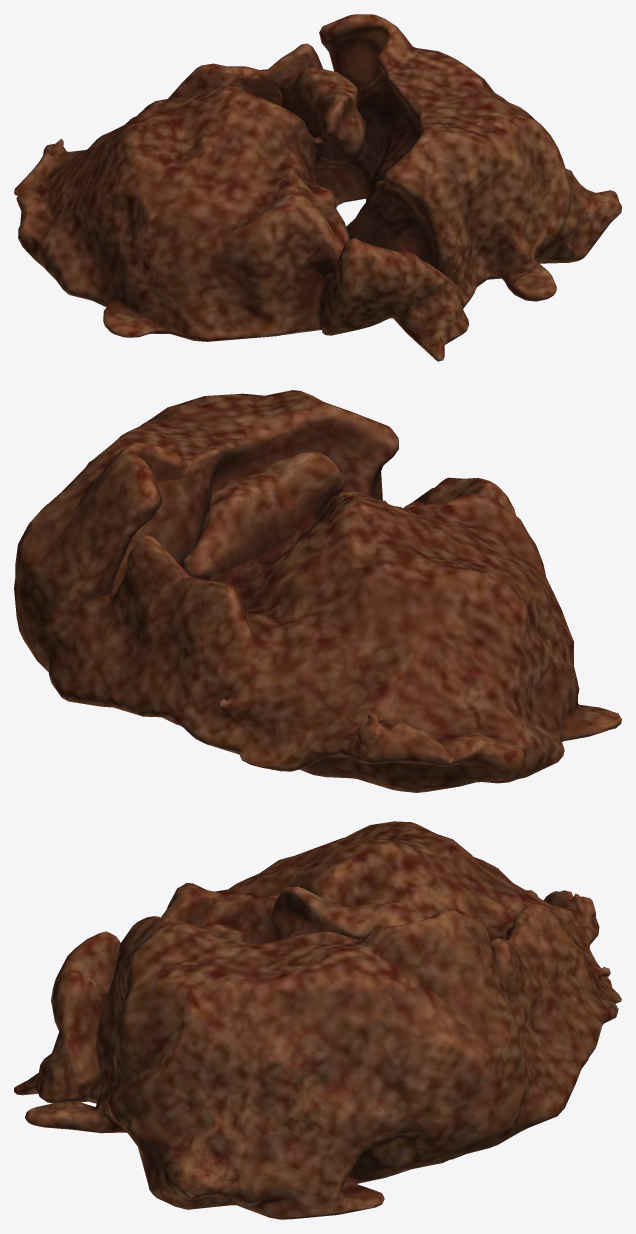
The model's file is giblet3.glb.
3 renders of one model, top to bottom at view 1: azimuth 30°, elevation 25°; view 2: azimuth 150°, elevation 25°; view 3: azimuth 270°, elevation 25°, orthographic. The views are drawn at different scales.
Parts seen in each view (by area): view 1: Mesh_0; view 2: Mesh_0; view 3: Mesh_0.
Boxes of the visible parts, x1,y1,x2,y2 form: Mesh_0: (14,14,621,361); Mesh_0: (14,390,621,792); Mesh_0: (14,821,621,1219).
Bounding box in the file's own units: 1.9 × 0.7282 × 1.69.
1 material, 1 textured.
